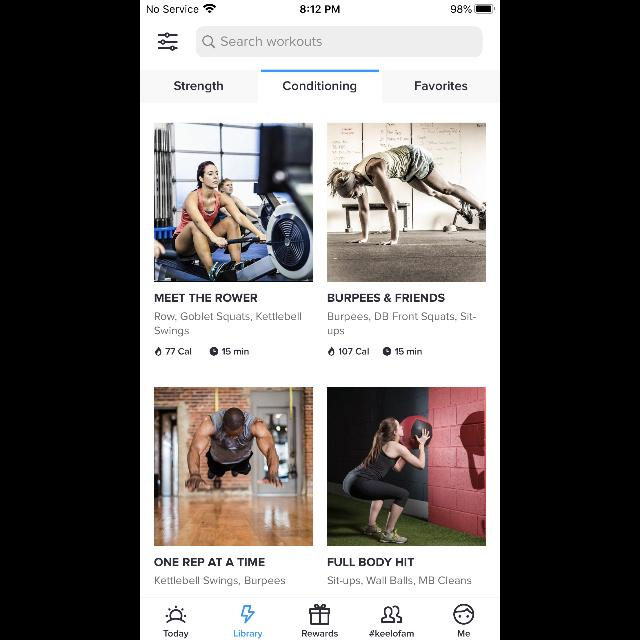icon: (454, 604, 474, 624), (310, 604, 330, 624), (158, 33, 178, 51), (382, 606, 402, 622), (166, 606, 186, 622), (202, 36, 215, 49), (383, 347, 391, 355), (210, 347, 218, 355), (328, 346, 334, 356), (156, 346, 162, 356)
image: (154, 122, 314, 282), (328, 122, 487, 282), (154, 388, 314, 546), (328, 388, 487, 546), (242, 605, 254, 623)
input: (196, 27, 482, 58)
text: (328, 312, 476, 322), (155, 312, 301, 322), (327, 576, 471, 586), (155, 576, 285, 586), (328, 294, 444, 302), (155, 558, 265, 566), (155, 294, 257, 302), (222, 38, 322, 46), (284, 81, 356, 92), (328, 558, 414, 566), (175, 81, 223, 92), (415, 82, 467, 90), (155, 327, 189, 337), (369, 630, 413, 636), (235, 630, 263, 638), (302, 630, 338, 636), (164, 630, 188, 638), (338, 348, 368, 354), (166, 348, 192, 354), (223, 349, 249, 355), (395, 349, 421, 355), (328, 328, 344, 336), (458, 630, 470, 636)
uppertaskbar: (140, 0, 500, 14)
